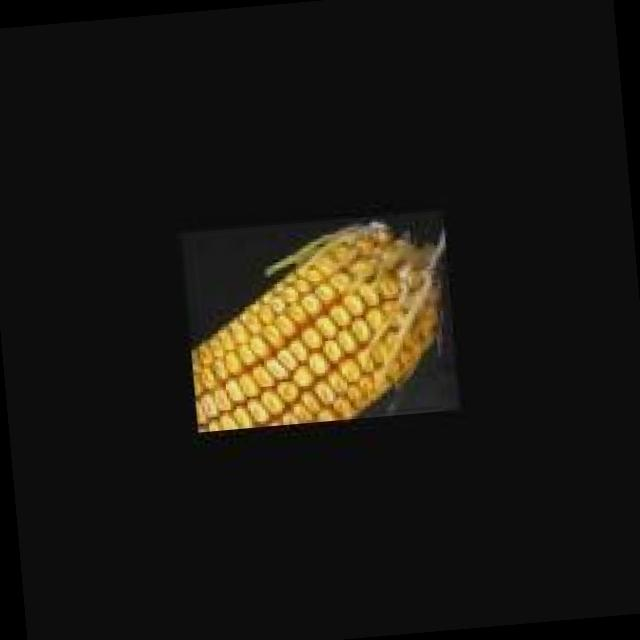corn: (191, 219, 442, 428)
